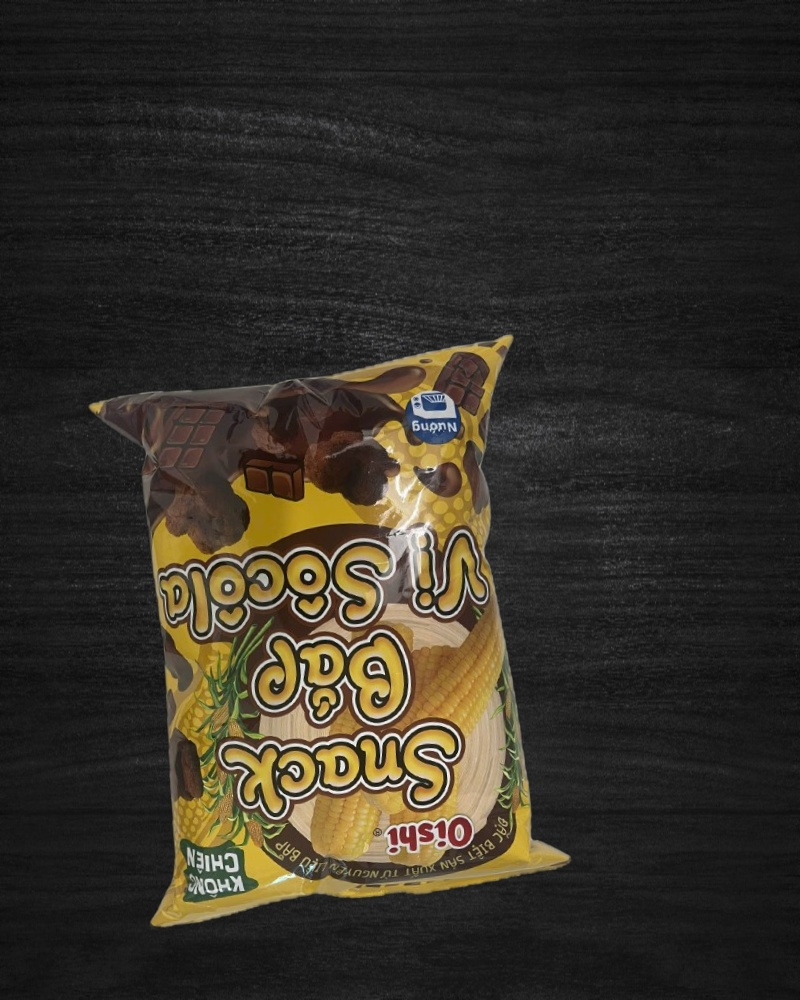Snack socola: (88, 336, 575, 928)
